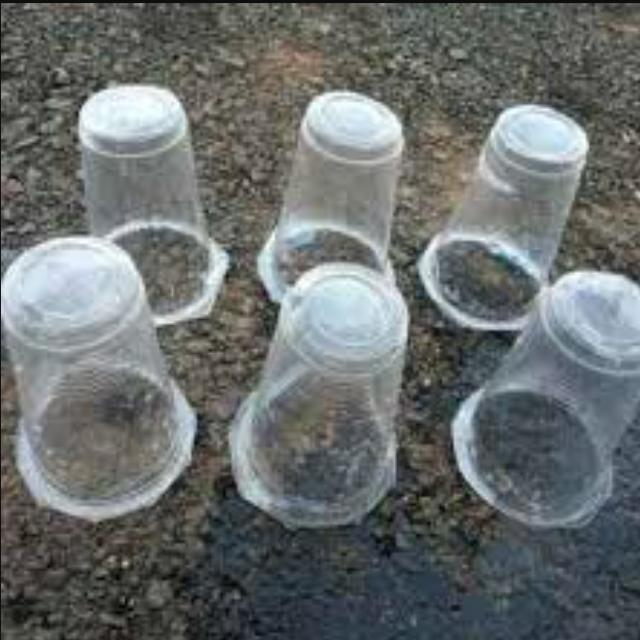GelasPlastik: (4, 232, 198, 524), (450, 267, 639, 530), (227, 259, 409, 530), (420, 94, 587, 338), (72, 80, 229, 322), (258, 73, 402, 305)
